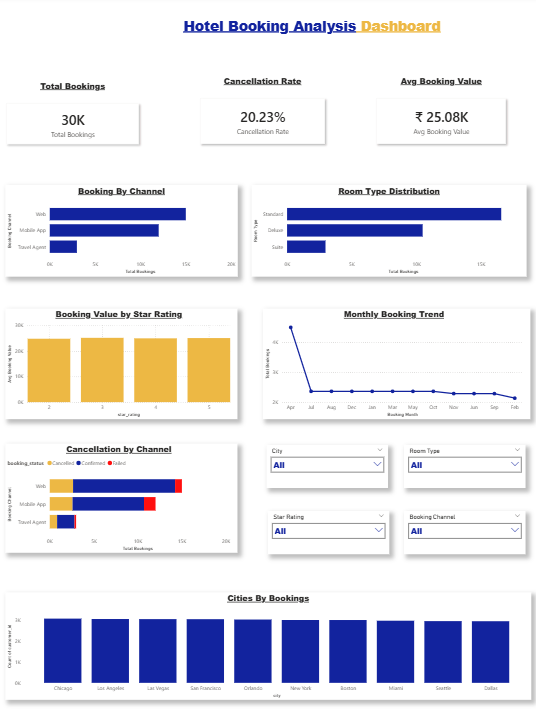

The page's visual inventory and layout, read from the dashboard file:
{"tool":"powerbi","page":{"name":"Page 1","canvas":[1280,1700],"ordinal":0},"visuals":[{"type":"image","box":[0,0,367.8,164.4],"z":0},{"type":"cardVisual","title":"Total Bookings","fields":{"Data":["CountNonNull(hotel_bookings.customer_id)"]},"box":[0,196.8,369.4,180.6],"z":1000},{"type":"cardVisual","title":"Cancellation Rate","fields":{"Data":["hotel_bookings.Cancellation Rate"]},"box":[456.5,185.5,351.6,191.9],"z":2000},{"type":"cardVisual","title":"Avg Booking Value","fields":{"Data":["hotel_bookings.Avg Booking Value"]},"box":[869.4,185.5,362.9,191.9],"z":3000},{"type":"barChart","title":"Booking By Channel","fields":{"Category":["hotel_bookings.booking_channel"],"Y":["CountNonNull(hotel_bookings.customer_id)"]},"box":[26,444,546,216],"z":4000},{"type":"barChart","title":"Room Type Distribution","fields":{"Category":["hotel_bookings.room_type"],"Y":["CountNonNull(hotel_bookings.customer_id)"]},"box":[604,444,646,216],"z":5000},{"type":"columnChart","title":"Booking Value by Star Rating","fields":{"Category":["hotel_bookings.star_rating"],"Y":["hotel_bookings.Avg Booking Value"]},"box":[25.7,732.9,545.7,260],"z":6000},{"type":"lineChart","title":"Monthly Booking Trend","fields":{"Category":["hotel_bookings.Booking Month"],"Y":["CountNonNull(hotel_bookings.customer_id)"]},"box":[632.9,732.9,628.6,260],"z":7000},{"type":"barChart","title":"Cancellation by Channel","fields":{"Category":["hotel_bookings.booking_channel"],"Series":["hotel_bookings.booking_status"],"Y":["CountNonNull(hotel_bookings.customer_id)"]},"box":[25.7,1052.9,545.7,257.1],"z":8000},{"type":"clusteredColumnChart","title":"Cities By Bookings","fields":{"Category":["hotel_bookings.city"],"Y":["CountNonNull(hotel_bookings.customer_id)"]},"box":[25.7,1401.4,1235.7,252.9],"z":9000},{"type":"slicer","fields":{"Values":["hotel_bookings.city"]},"box":[640.6,1053.1,285.9,101.6],"z":10000},{"type":"slicer","fields":{"Values":["hotel_bookings.room_type"]},"box":[964.1,1053.1,285.9,101.6],"z":11000},{"type":"slicer","fields":{"Values":["hotel_bookings.booking_channel"]},"box":[964.1,1209.4,285.9,101.6],"z":12000},{"type":"slicer","fields":{"Values":["hotel_bookings.star_rating"]},"box":[643.8,1209.4,285.9,101.6],"z":13000},{"type":"textbox","box":[314.1,42.2,865.6,121.9],"z":14000}]}

Visuals, with their boxes in screenshot pixels (x1, y1, x2, y2), scaled from the page's 1280x1700 canvas onto the 536x717 screenshot:
image: [x1=0, y1=0, x2=154, y2=69]
"Total Bookings" cardVisual: [x1=0, y1=83, x2=155, y2=159]
"Cancellation Rate" cardVisual: [x1=191, y1=78, x2=338, y2=159]
"Avg Booking Value" cardVisual: [x1=364, y1=78, x2=516, y2=159]
"Booking By Channel" barChart: [x1=11, y1=187, x2=240, y2=278]
"Room Type Distribution" barChart: [x1=253, y1=187, x2=523, y2=278]
"Booking Value by Star Rating" columnChart: [x1=11, y1=309, x2=239, y2=419]
"Monthly Booking Trend" lineChart: [x1=265, y1=309, x2=528, y2=419]
"Cancellation by Channel" barChart: [x1=11, y1=444, x2=239, y2=553]
"Cities By Bookings" clusteredColumnChart: [x1=11, y1=591, x2=528, y2=698]
slicer - hotel_bookings.city: [x1=268, y1=444, x2=388, y2=487]
slicer - hotel_bookings.room_type: [x1=404, y1=444, x2=523, y2=487]
slicer - hotel_bookings.booking_channel: [x1=404, y1=510, x2=523, y2=553]
slicer - hotel_bookings.star_rating: [x1=270, y1=510, x2=389, y2=553]
textbox: [x1=132, y1=18, x2=494, y2=69]
